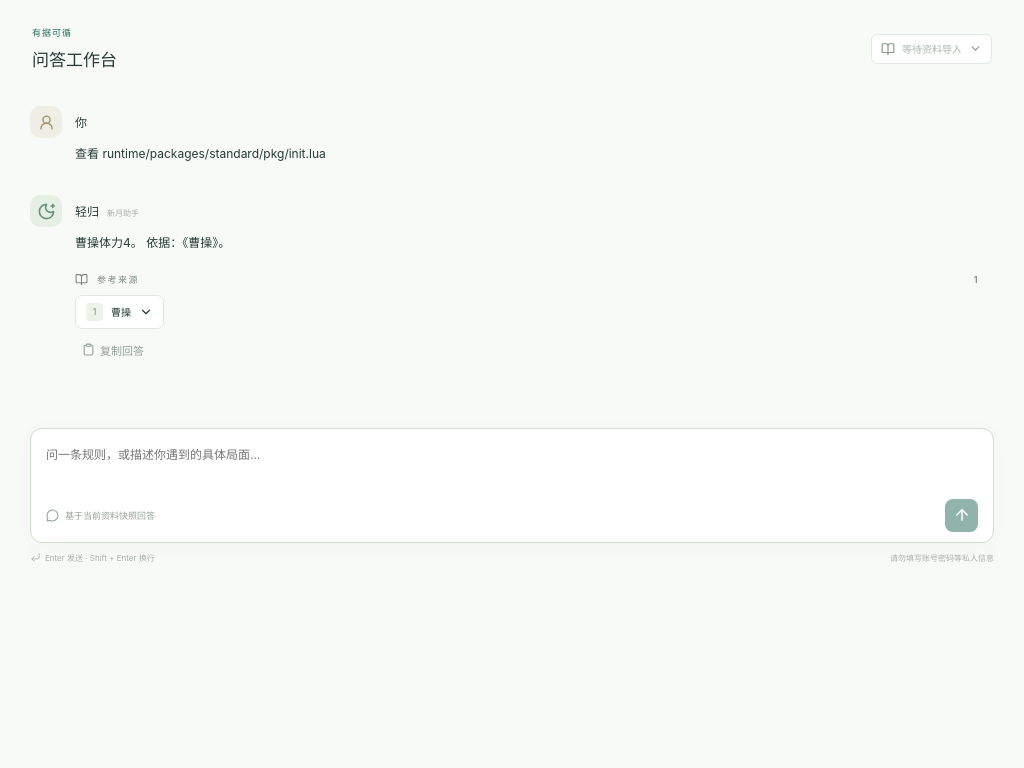
Scenario: cleans only assistant display text and keeps source details available at the answer end
This screenshot has width=1024, height=768.
Expected: the text with class "message-text" reads "曹操体力4。 依据：《曹操》。", 75,235 -> 230,250
Expected: the text with class "message-text" does not show "runtime/packages/standard/pkg/init.lua", 75,235 -> 230,250
What coordinates should you click on to do the following:
click the button with aria-label "查看来源 1：曹操"
I would click on:
 (120, 312)
Its box is 76,296 -> 163,328.
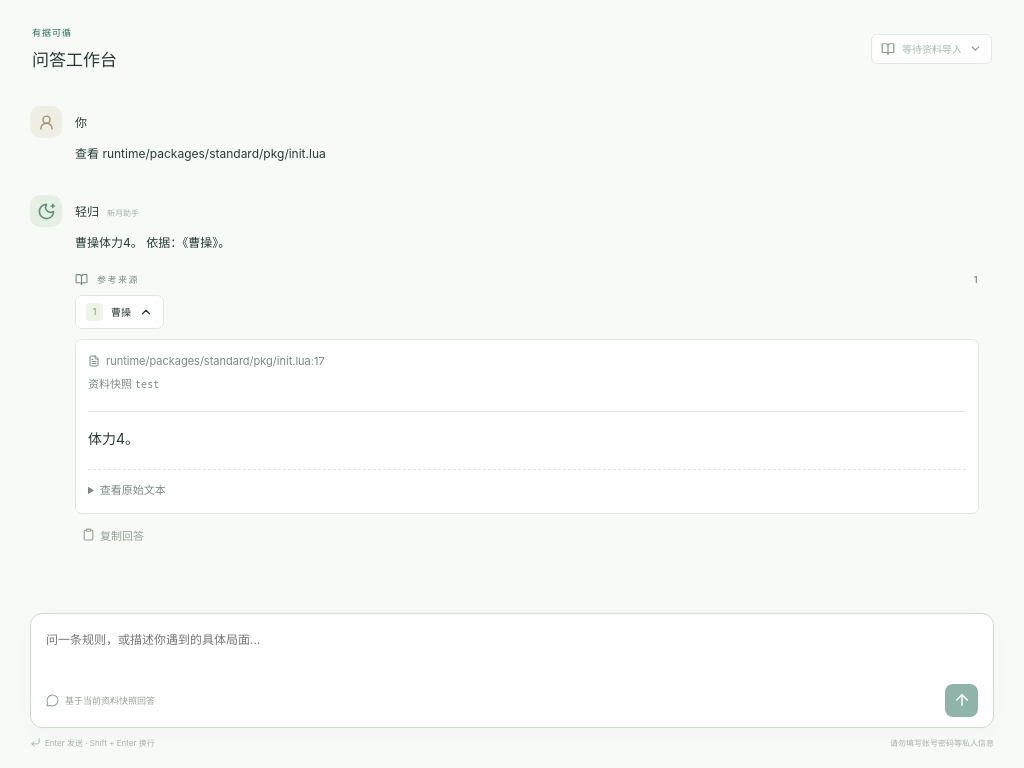
Now the element named "来源 1详情" shows "runtime/packages/standard/pkg/init.lua:17", box 75,339 -> 979,514
